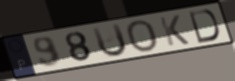8: (65, 31, 94, 62)
9: (32, 35, 63, 69)
D: (187, 8, 221, 45)
K: (157, 13, 192, 47)
O: (124, 18, 161, 53)
U: (90, 22, 130, 59)
